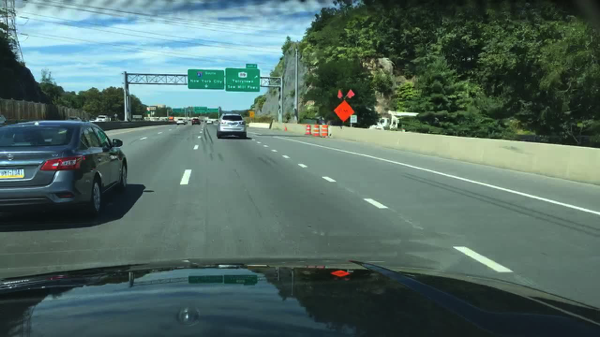car: (0, 119, 126, 217), (216, 113, 248, 140), (96, 115, 110, 123), (68, 116, 83, 122), (191, 118, 202, 125), (89, 116, 99, 123), (176, 119, 187, 125), (207, 119, 214, 123)
traffic sign: (188, 68, 227, 90), (226, 69, 261, 92), (333, 101, 355, 123), (194, 108, 208, 114), (245, 63, 258, 69), (173, 108, 184, 114), (350, 116, 357, 124), (209, 108, 219, 113), (249, 110, 255, 118)
truck: (379, 111, 418, 129), (169, 116, 174, 121)
